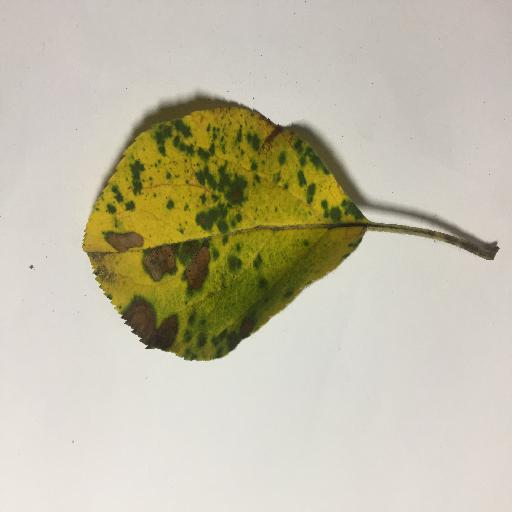Brown_Spot: (220, 118, 289, 146), (181, 246, 212, 292), (125, 299, 153, 334), (155, 310, 178, 348), (228, 184, 256, 211), (145, 251, 173, 275), (107, 232, 140, 251)
